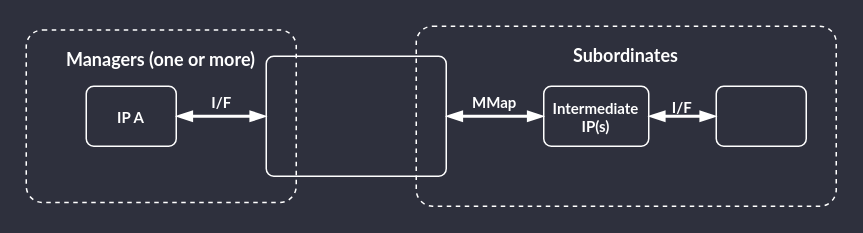
This 863x233 diagram has some shape labels left out. Here are the shapes that lost their labels. From the top down, the centre of each, then its label:
At (355,115): "Interconnect".
At (760,115): "IP B".
